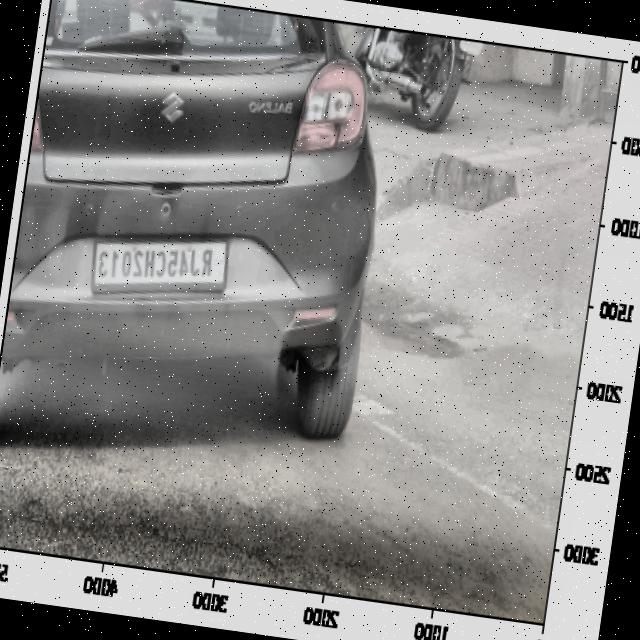license_plate: (90, 226, 222, 307)
